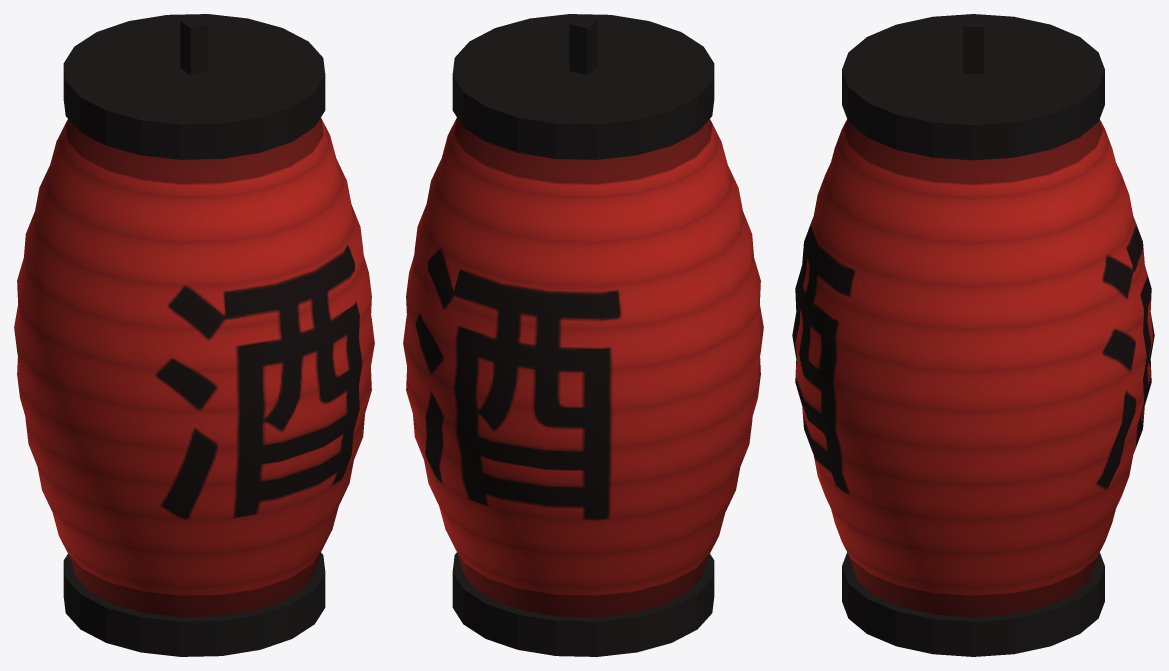
File: lantern.obj
3 views of the same model, side by side, from view 1: azimuth 30°, elevation 25°; view 2: azimuth 150°, elevation 25°; view 3: azimuth 270°, elevation 25° (orthographic).
Visible parts, largest first — view 1: lantern; view 2: lantern; view 3: lantern.
Boxes of the visible parts, x1,y1,x2,y2 form: lantern: (14,14,374,656); lantern: (403,14,763,656); lantern: (792,14,1154,656).
Size of the model in its own units: 0.42 by 0.74 by 0.42.
